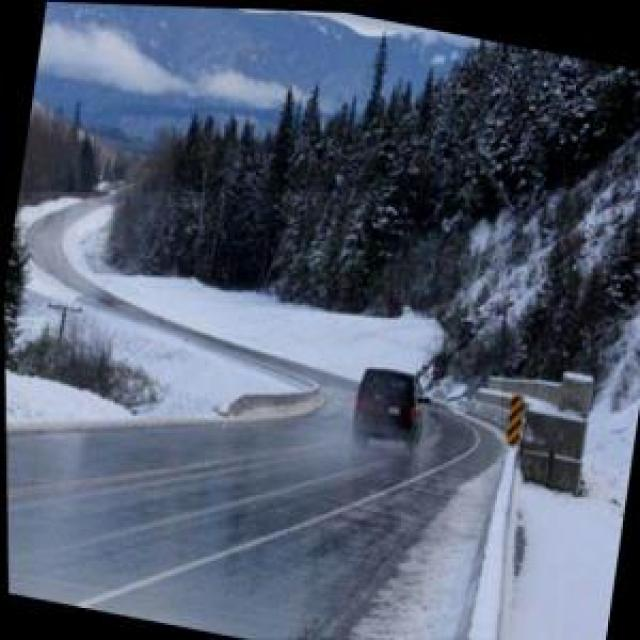ice-road: (5, 193, 501, 640)
